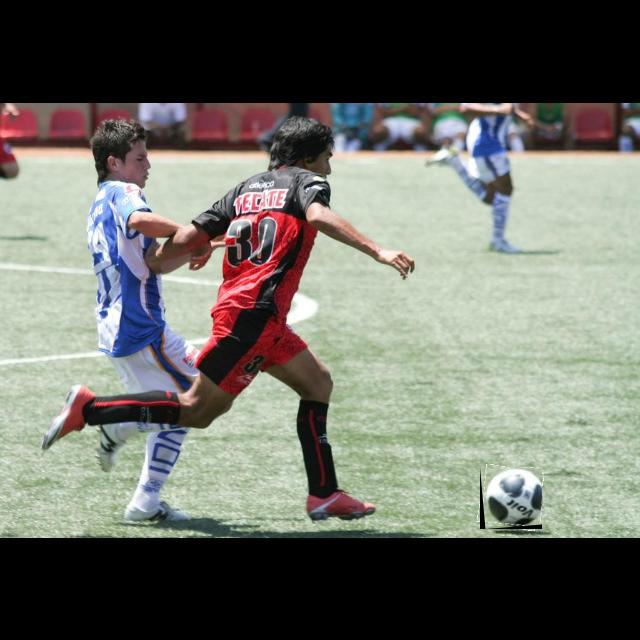Football: (480, 467, 542, 529)
